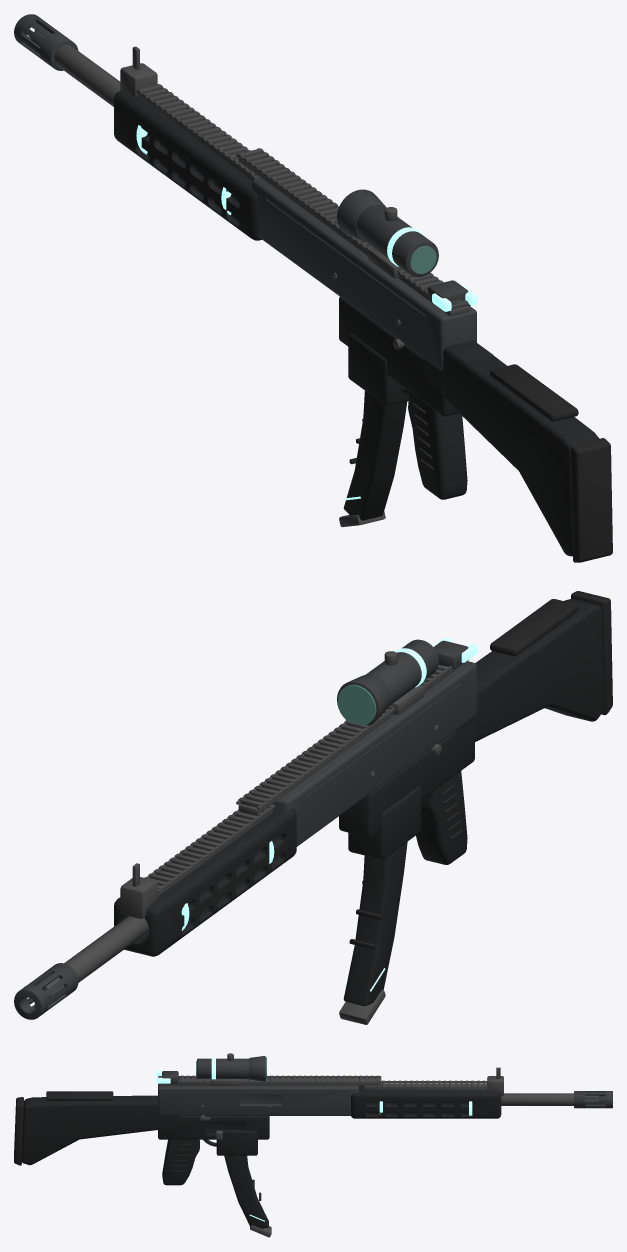
The picture shows the model from 3 angles, top to bottom: view 1: azimuth 30°, elevation 25°; view 2: azimuth 150°, elevation 25°; view 3: azimuth 270°, elevation 25°; orthographic projection. The views are drawn at different scales.
Visible parts, largest first — view 1: Body, Mag, Bolt; view 2: Body, Mag, Bolt; view 3: Body, Mag, Bolt.
Part boxes in pixels (bbox=[...]): Body: bbox=[14, 14, 612, 562]; Mag: bbox=[339, 391, 407, 526]; Bolt: bbox=[427, 280, 477, 311]; Body: bbox=[14, 591, 612, 1019]; Mag: bbox=[339, 842, 407, 1024]; Bolt: bbox=[433, 637, 477, 668]; Body: bbox=[14, 1053, 612, 1185]; Mag: bbox=[224, 1155, 271, 1237]; Bolt: bbox=[156, 1071, 178, 1083].
Size of the model in its own units: 0.0555 by 0.3552 by 1.07.
